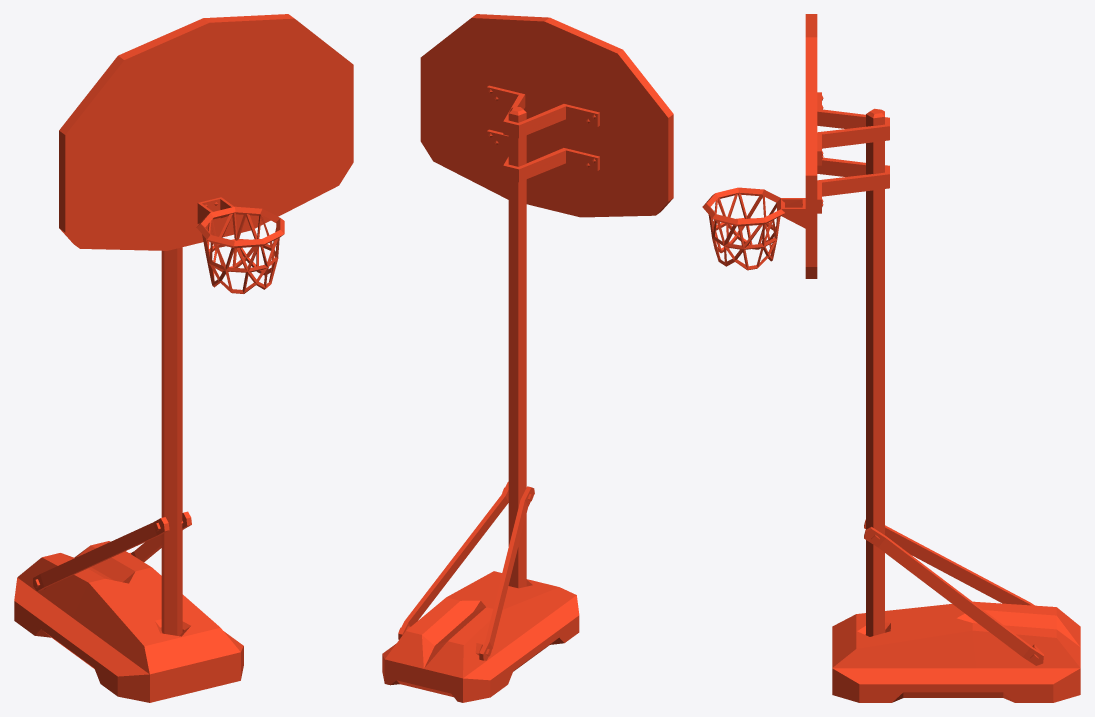
Rendered from SM_Hoop_Basketball_A_City.fbx.
3 renders of one model, left to right at view 1: azimuth 30°, elevation 25°; view 2: azimuth 150°, elevation 25°; view 3: azimuth 270°, elevation 25°, orthographic. The views are drawn at different scales.
Visible parts, largest first — view 1: SM_Hoop_Basketball_A_City; view 2: SM_Hoop_Basketball_A_City; view 3: SM_Hoop_Basketball_A_City.
Boxes of the visible parts, x1=… form: SM_Hoop_Basketball_A_City: x1=14, y1=14, x2=353, y2=702; SM_Hoop_Basketball_A_City: x1=382, y1=14, x2=673, y2=702; SM_Hoop_Basketball_A_City: x1=702, y1=14, x2=1080, y2=702.
Bounding box in the file's own units: 1.8 × 4.05 × 2.18.
